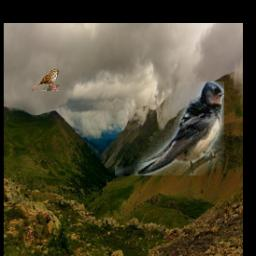Sparrow: (31, 68, 60, 91)
Swallow: (116, 81, 225, 175)
